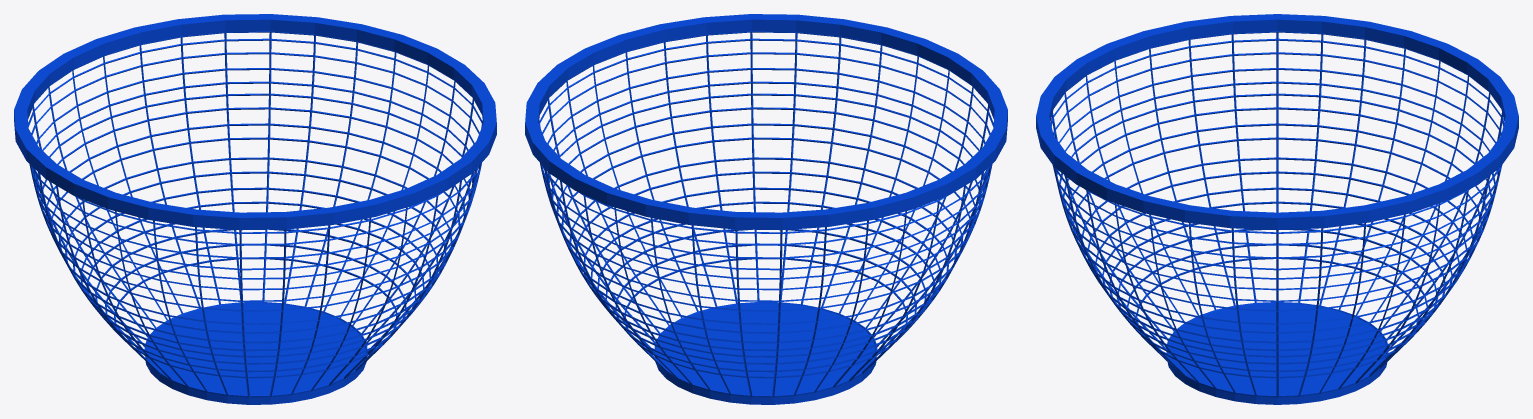
The model's file is soubik2.glb.
3 views of the same model, side by side, from view 1: azimuth 30°, elevation 25°; view 2: azimuth 150°, elevation 25°; view 3: azimuth 270°, elevation 25° (orthographic).
Parts seen in each view (by area): view 1: soubik2; view 2: soubik2; view 3: soubik2.
Part boxes in pixels (x1=…): soubik2: x1=14, y1=14, x2=496, y2=404; soubik2: x1=525, y1=14, x2=1007, y2=404; soubik2: x1=1036, y1=14, x2=1518, y2=404.
Size of the model in its own units: 0.177 by 0.0978 by 0.177.
